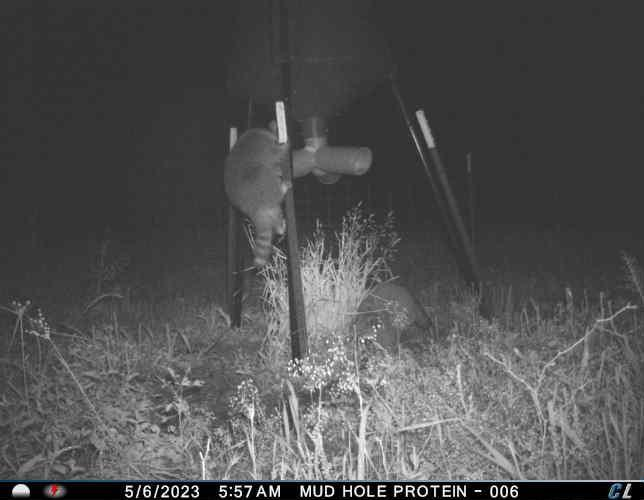Raccoon: (222, 123, 292, 263), (348, 279, 436, 359)
